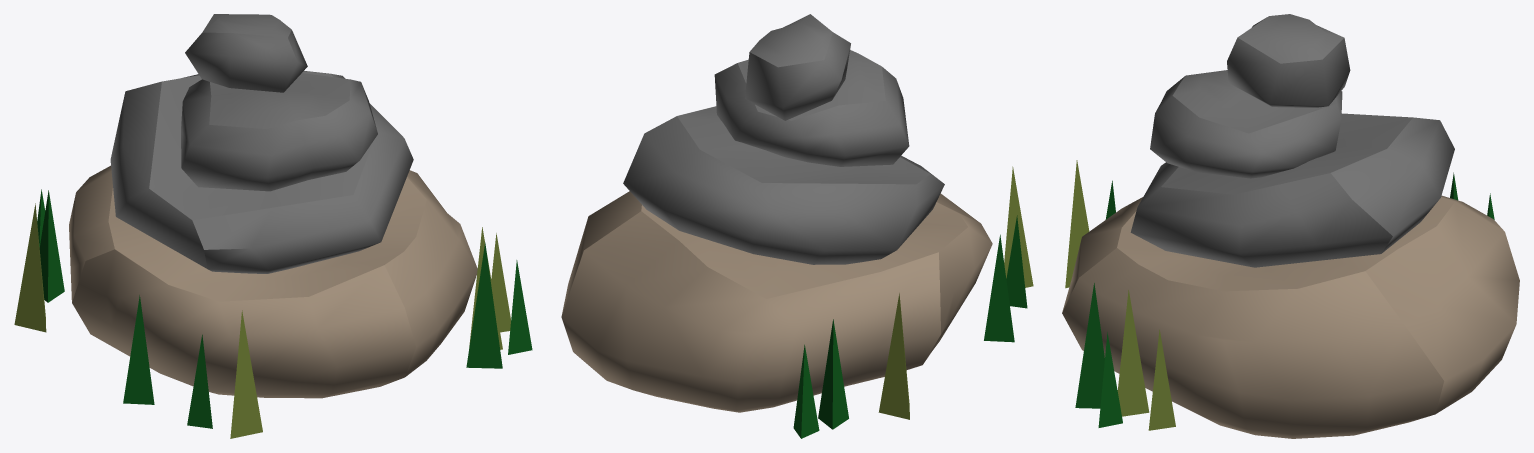
File: rock1.glb
The picture shows the model from 3 angles, left to right: view 1: azimuth 30°, elevation 25°; view 2: azimuth 150°, elevation 25°; view 3: azimuth 270°, elevation 25°; orthographic projection.
Visible parts, largest first — view 1: Rock1; view 2: Rock1; view 3: Rock1.
Boxes of the visible parts, x1,y1,x2,y2 form: Rock1: (14,14,532,438); Rock1: (561,14,1033,438); Rock1: (1062,14,1519,438).
Size of the model in its own units: 1.79 by 1.57 by 1.92.
Materials: 1 (1 with a texture image).
